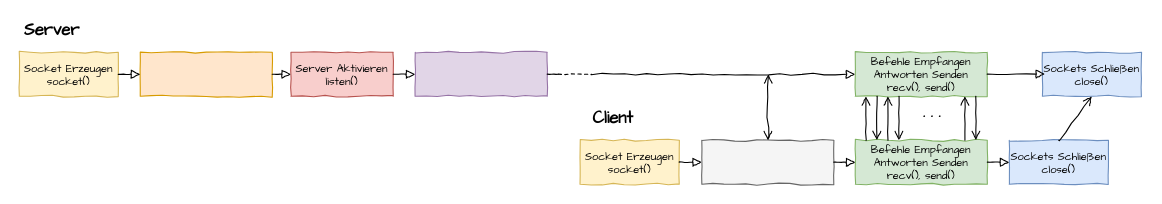
The diagram is 1162 pixels wide and 204 high, and some of its shapes have lost their labels. The shapes that lost their labels are listed below. From the top down, each one's centre as x and y in pixels, then its label:
[205,73]: Adresse/Port Festlegen bind()
[480,73]: Verbindung Annehmen und Socket Erzeugen accept()
[767,161]: Verbindung aufbauen connect()
